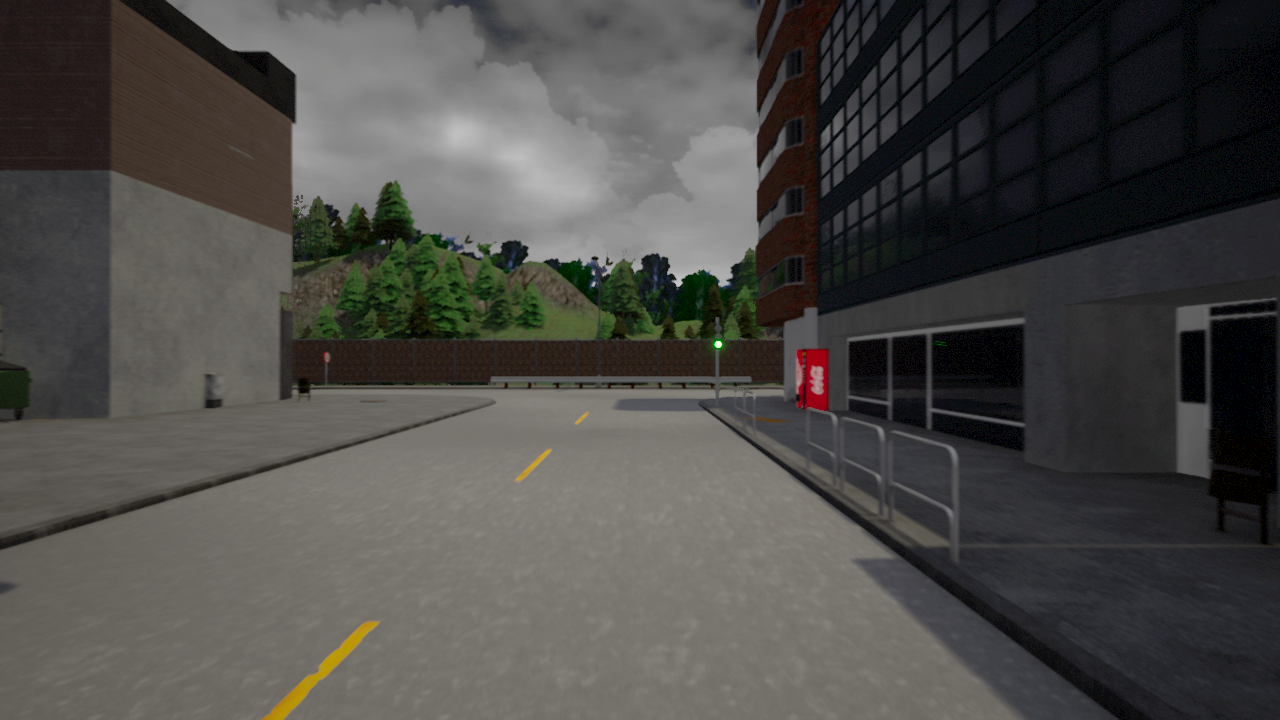green: (713, 323, 726, 349)
